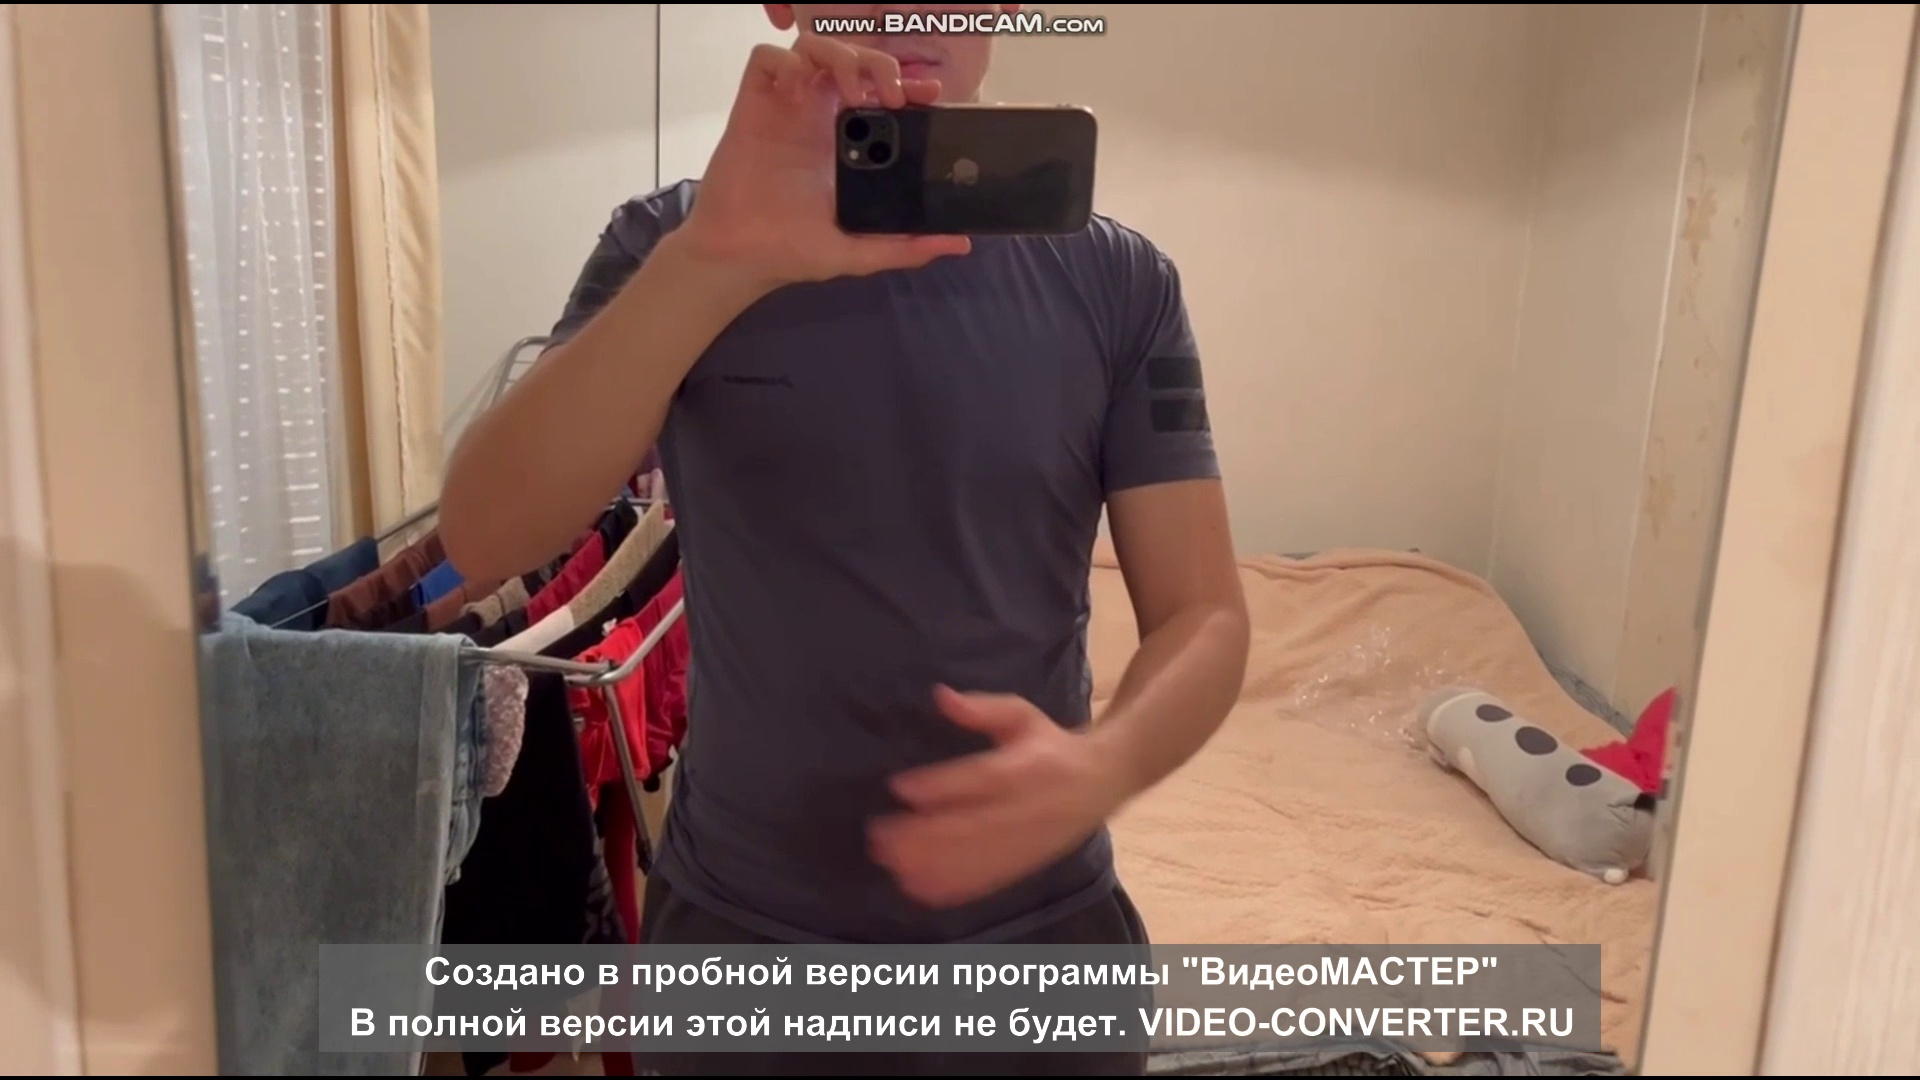Кисть: (866, 682, 1109, 909)
